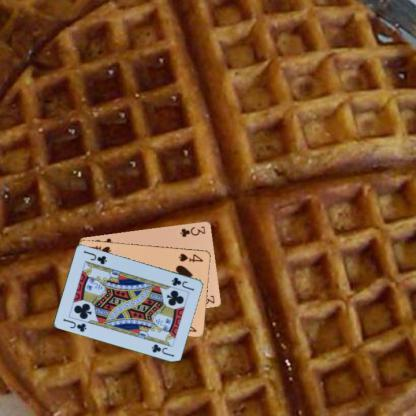3c: (177, 224, 207, 238)
4s: (176, 251, 205, 263)
Jc: (61, 315, 88, 333), (170, 274, 196, 292)
